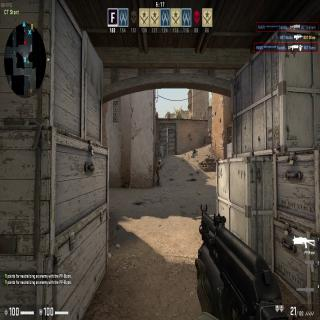CT-Body: (156, 162, 160, 186)
CT-Head: (158, 162, 160, 166)
